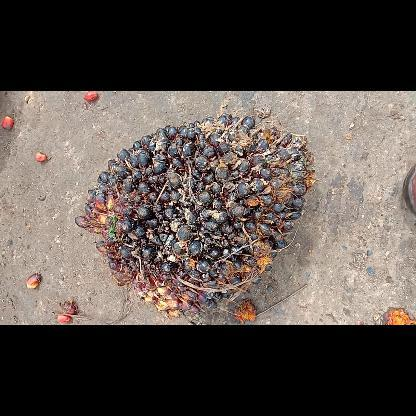TBS mentah: (70, 112, 314, 320)
